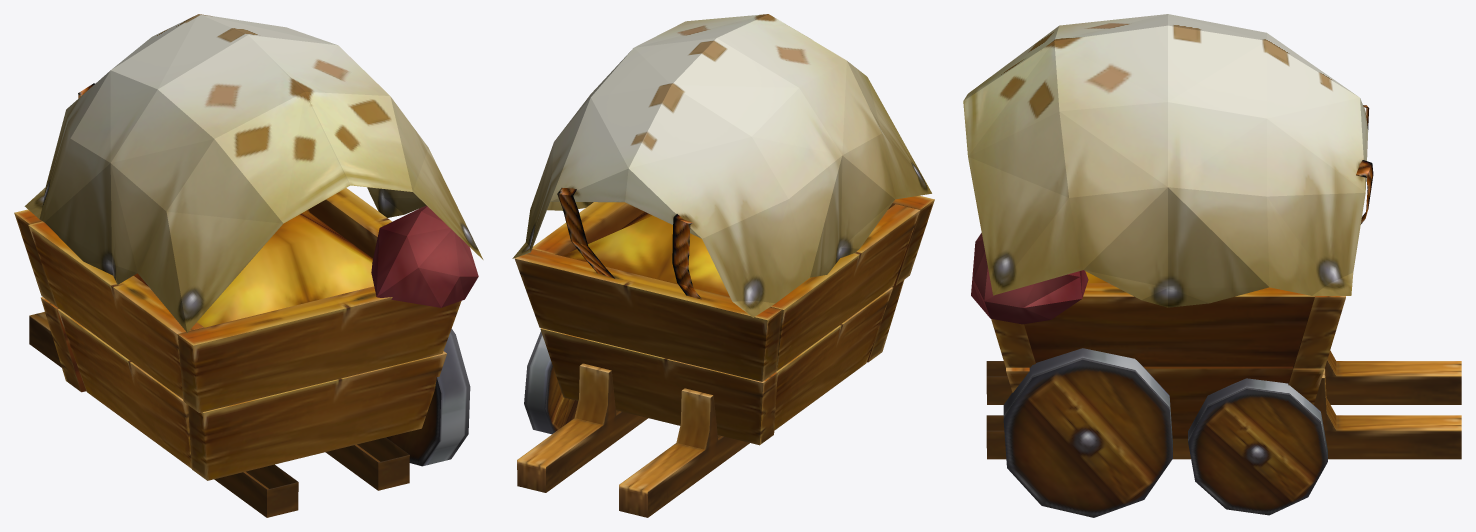
File: mache.FBX
3 renders of one model, left to right at view 1: azimuth 30°, elevation 25°; view 2: azimuth 150°, elevation 25°; view 3: azimuth 270°, elevation 25°, orthographic. The views are drawn at different scales.
Visible parts, largest first — view 1: mache; view 2: mache; view 3: mache.
Part boxes in pixels (x1=…): mache: x1=14, y1=14, x2=483, y2=517; mache: x1=512, y1=14, x2=934, y2=517; mache: x1=963, y1=14, x2=1461, y2=517.
Bounding box in the file's own units: 99.63 × 133 × 141.
